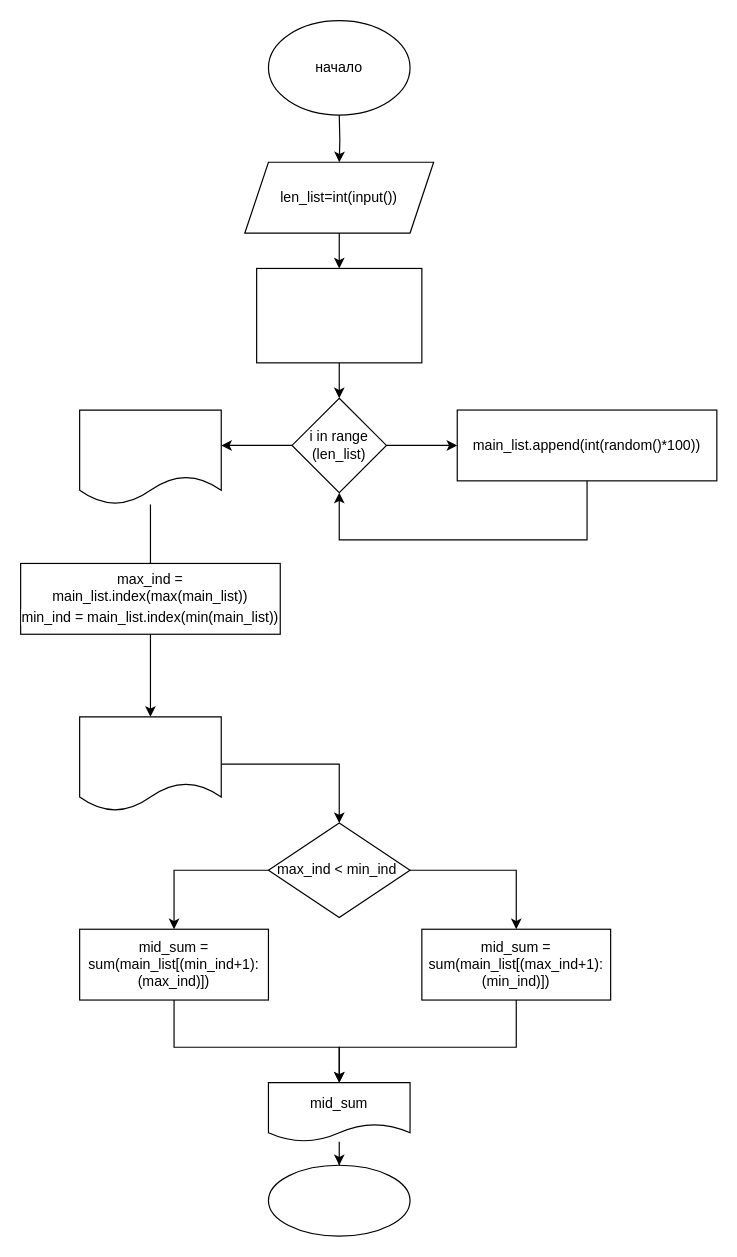
This 737x1257 diagram has some shape labels left out. The box of each missing label's shape, as (x1, y1, x2, y2) in pixels:
main_list: (78, 409, 221, 504)
main_list = []: (255, 267, 422, 363)
max_ind, min_ind: (78, 716, 221, 811)
конец: (267, 1164, 410, 1236)
